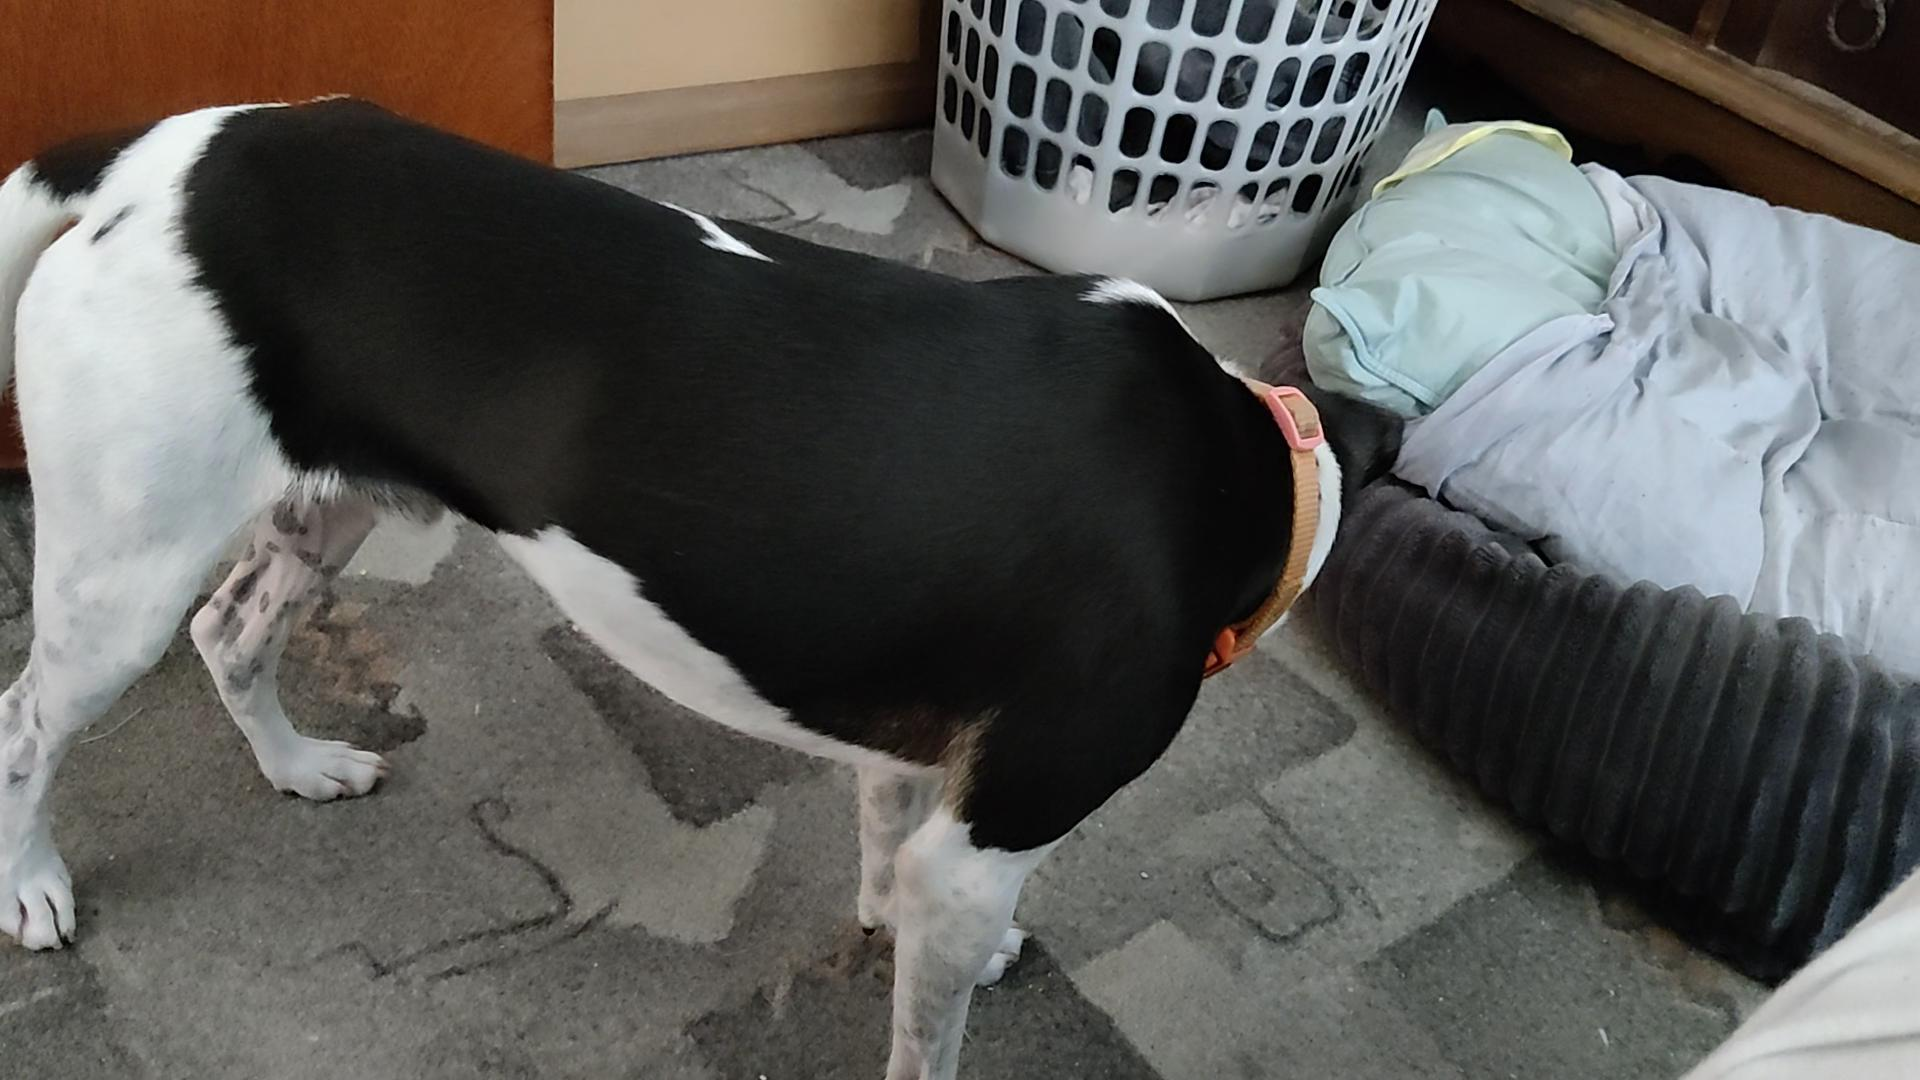Dog: (0, 84, 1422, 1079)
